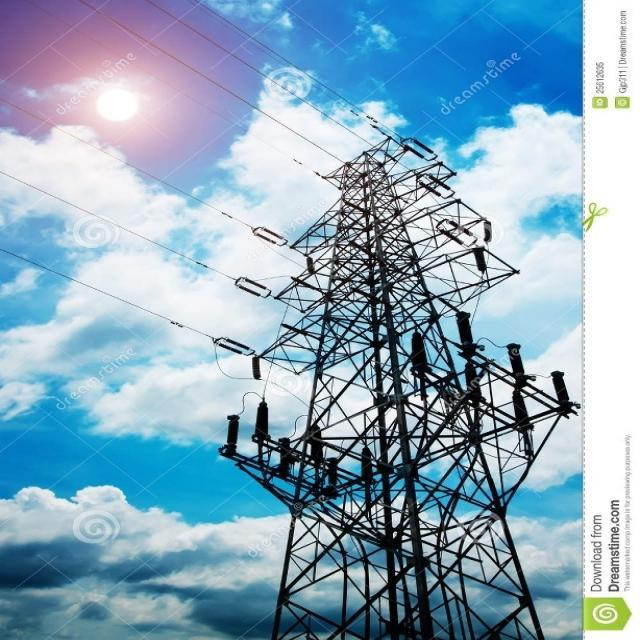non-critical vegetation: (245, 150, 564, 632)
